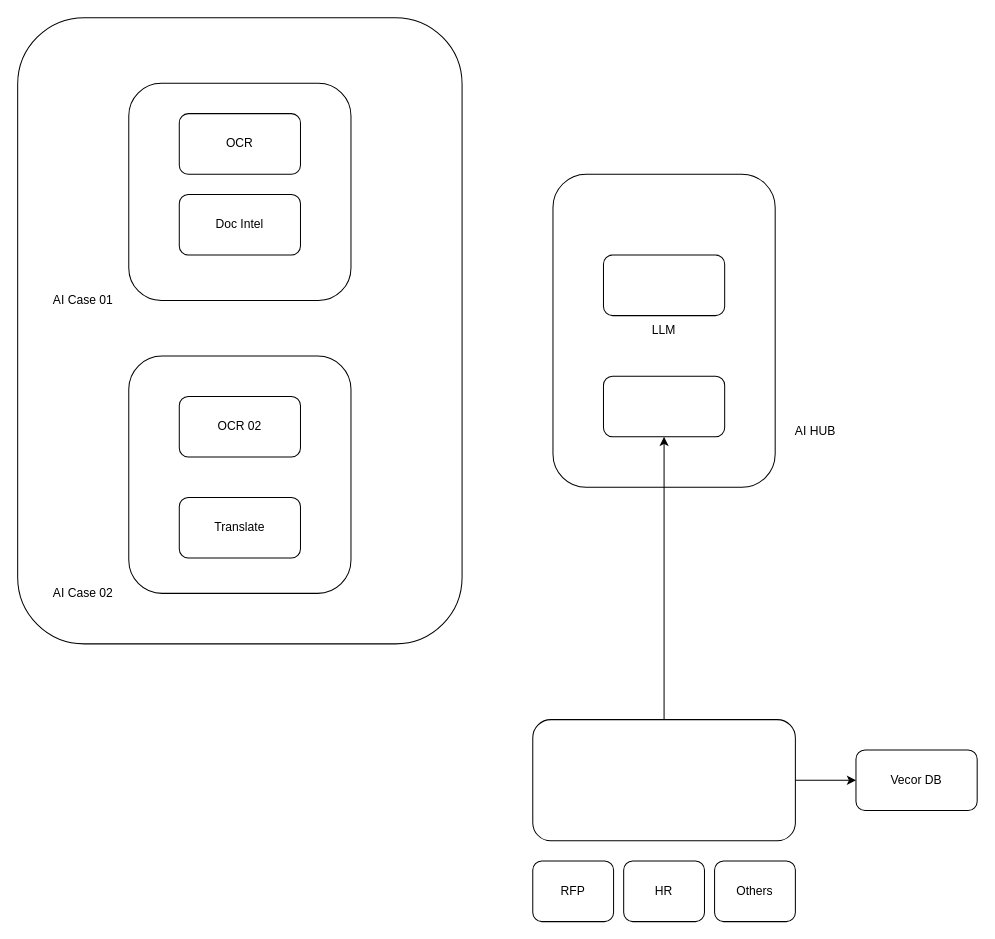
Image size: 995x939. Some labels were removed from this diagram. The centre of each missing label's shape, as x and y in pixels:
"AI GW" belongs at pixel 663 406.
"Airia" belongs at pixel 663 780.
